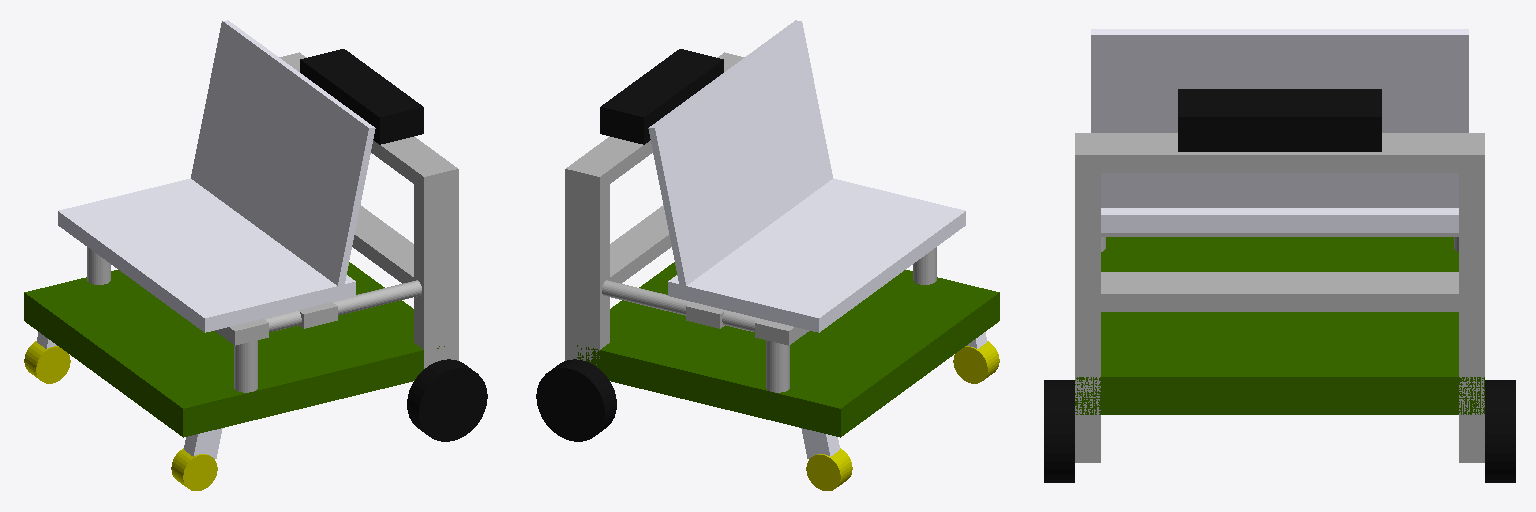
The robot description file, URDF, robot "multipleshapes":
<?xml version="1.0"?>
<robot name="multipleshapes">

	 <link name="rect_base">
	    <visual>
	      <geometry>
		<box size="0.4 .4 .04"/>
	      </geometry>
		<material name="Greenish">
     			<color rgba="0.25 0.45 0 1"/>
  	       </material>
	    </visual>
	 </link>

	<link name="dell_base">
	    <visual>
	      <geometry>
		<box size="0.22 .37 .02"/>
	      </geometry>
		<material name="Silver">
     			<color rgba="0.95 0.95 1 0.95"/>
  	       </material>
	    </visual>
	 </link>

	<link name="dell_screen">
	    <visual>
	      <geometry>
		<box size="0.22 .37 .01"/>
	      </geometry>
	      <origin rpy="0 1.7854 0" xyz="0 0 0"/>
		<material name="Silver">
     			<color rgba="0.95 0.95 1 0.95"/>
  	       </material>
	    </visual>
	 </link>

	 <link name="bar_left1">
	    <visual>
	      <geometry>
		<box size="0.05 .025 .33"/>
	      </geometry>
		<material name="Gray">
     			<color rgba="0.75 0.75 0.75 1"/>
  	       </material>
	    </visual>
	  </link>

	<link name="bar_right1">
	    <visual>
	      <geometry>
		<box size="0.05 .025 .33"/>
	      </geometry>
		<material name="Gray">
     			<color rgba="0.75 0.75 0.75 1"/>
  	       </material>
	    </visual>
	 </link>

	<link name="wheel_left">
	    <visual>
	      <geometry>
		<cylinder length="0.03" radius="0.05"/>
	      </geometry>
	      <origin rpy="0 1.57075 1.57075" xyz="0 0 0"/>
		<material name="Black">
     			<color rgba="0.1 0.1 0.1 1"/>
  	       </material>
	    </visual>
	 </link>
	<link name="wheel_right">
	    <visual>
	      <geometry>
		<cylinder length="0.03" radius="0.05"/>
	      </geometry>
	      <origin rpy="0 1.57075 1.57075" xyz="0 0 0"/>
		<material name="Black">
     			<color rgba="0.1 0.1 0.1 1"/>
  	       </material>
	    </visual>
	 </link>

	<link name="shaft_left">
	    <visual>
	      <geometry>
		<box size="0.07 .025 .035"/>
	      </geometry>
	      <origin rpy="0 1.7854 0" xyz="0 0 0"/>
		<material name="Silver">
     			<color rgba="0.95 0.95 1 0.95"/>
  	       </material>
	    </visual>
	 </link>


	<link name="shaft_right">
  	    <visual>
	      <geometry>
		<box size="0.07 .025 .035"/>
	      </geometry>
	      <origin rpy="0 1.7854 0" xyz="0 0 0"/>
		<material name="Silver">
     			<color rgba="0.95 0.95 1 0.95"/>
  	       </material>
	    </visual>
	 </link>


	<link name="wheel_left2">
	    <visual>
	      <geometry>
		<cylinder length="0.03" radius="0.025"/>
	      </geometry>
	      <origin rpy="0 1.57075 1.57075" xyz="0 0 0"/>
		<material name="Yellow">
     			<color rgba="0.8 0.8 0 1"/>
  	       </material>
	    </visual>
	 </link>

	<link name="wheel_right2">
	    <visual>
	      <geometry>
		<cylinder length="0.03" radius="0.025"/>
	      </geometry>
	      <origin rpy="0 1.57075 1.57075" xyz="0 0 0"/>
		<material name="Yellow">
     			<color rgba="0.8 0.8 0 1"/>
  	       </material>
	    </visual>
	 </link>

	<link name="bar_ver1">
	    <visual>
	      <geometry>
		<cylinder length="0.3" radius="0.01"/>
	      </geometry>
	      <origin rpy="0 1.57075 0" xyz="0 0 0"/>
		<material name="Gray">
     			<color rgba="0.75 0.75 0.75 1"/>
  	       </material>
	    </visual>
	 </link>

	<link name="bar_ver2">
	    <visual>
	      <geometry>
		<cylinder length="0.3" radius="0.01"/>
	      </geometry>
	      <origin rpy="0 1.57075 0" xyz="0 0 0"/>
		<material name="Gray">
     			<color rgba="0.75 0.75 0.75 1"/>
  	       </material>
	    </visual>
	 </link>

	<link name="bar_hor1">
	    <visual>
	      <geometry>
		<box size="0.05 .4 .02"/>
	      </geometry>
		<material name="Gray">
     			<color rgba="0.75 0.75 0.75 1"/>
  	       </material>
	    </visual>
	 </link>

	<link name="bar_hor2">
	    <visual>
	      <geometry>
		<box size="0.05 .4 .02"/>
	      </geometry>
		<material name="Gray">
     			<color rgba="0.75 0.75 0.75 1"/>
  	       </material>
	    </visual>
	 </link>


	<link name="bar_hor3">
	    <visual>
	      <geometry>
		<box size="0.05 .4 .02"/>
	      </geometry>
		<material name="Gray">
			<color rgba="0.75 0.75 0.75 1"/>
	       </material>
	    </visual>
	 </link>

	<link name="bar_hor4">
	    <visual>
	      <geometry>
		<box size="0.05 .4 .02"/>
	      </geometry>
		<material name="Gray">
			<color rgba="0.75 0.75 0.75 1"/>
	       </material>
	    </visual>
	 </link>

	<link name="bar_right2">
	    <visual>
	      <geometry>
		<cylinder length="0.12" radius="0.015"/>
	      </geometry>
		<material name="Gray">
     			<color rgba="0.75 0.75 0.75 1"/>
  	       </material>
	    </visual>
	 </link>

	<link name="bar_left2">
	    <visual>
	      <geometry>
		<cylinder length="0.12" radius="0.015"/>
	      </geometry>
		<material name="Gray">
     			<color rgba="0.75 0.75 0.75 1"/>
  	       </material>
	    </visual>
	 </link>

	<link name="kinect_link">
	  <visual>
	    <geometry>
	      <box size="0.064 0.2 0.0381" />
	    </geometry>
	    <material name="Black" />
	  </visual>
	  <inertial>
	      <mass value="0.0001" />
	      <origin xyz="0 0 0" />
	      <inertia ixx="0.0001" ixy="0.0" ixz="0.0"
		       iyy="0.0001" iyz="0.0" 
		       izz="0.0001" />
	  </inertial>
	</link>

	 <joint name="base_to_dell" type="fixed">
	    <parent link="rect_base"/>
	    <child link="bar_left1"/>
	    <origin xyz="0.175 0.1875 .0925"/>
	 </joint>

	 <joint name="base_to_bar_left1" type="fixed">
	    <parent link="rect_base"/>
	    <child link="dell_base"/>
	    <origin xyz="-0.05 0 .12"/>
	 </joint>

	 <joint name="base_to_bar_right1" type="fixed">
	    <parent link="rect_base"/>
	    <child link="bar_right1"/>
	    <origin xyz="0.175 -0.1875 .0925"/>
	 </joint>

	<joint name="base_to_bar_left2" type="fixed">
	    <parent link="rect_base"/>
	    <child link="bar_right2"/>
	    <origin xyz="-0.1 0.185 0.05"/>
	 </joint>

	<joint name="base_to_bar_right2" type="fixed">
	    <parent link="rect_base"/>
	    <child link="bar_left2"/>
	    <origin xyz="-0.1 -0.185 0.05"/>
	 </joint>

	 <joint name="base_to_bar_ver1" type="fixed">
	    <parent link="rect_base"/>
	    <child link="bar_ver1"/>
	    <origin xyz="0.025 0.185 .1"/>
	 </joint>

	<joint name="base_to_bar_ver2" type="fixed">
	    <parent link="rect_base"/>
	    <child link="bar_ver2"/>
	    <origin xyz="0.025 -0.185 .1"/>
	 </joint>

	 <joint name="base_to_bar_hor1" type="fixed">
	    <parent link="rect_base"/>
	    <child link="bar_hor1"/>
	    <origin xyz="0.175 0 .25"/>
	 </joint>

	<joint name="base_to_bar_hor2" type="fixed">
	    <parent link="rect_base"/>
	    <child link="bar_hor2"/>
	    <origin xyz="0.175 0 .1"/>
	 </joint>

	<joint name="base_to_bar_hor3" type="fixed">
	    <parent link="rect_base"/>
	    <child link="bar_hor3"/>
	    <origin xyz="0.0 0 .1"/>
	 </joint>

	<joint name="base_to_bar_hor4" type="fixed">
	    <parent link="rect_base"/>
	    <child link="bar_hor4"/>
	    <origin xyz="-0.1 0 .1"/>
	 </joint>


	<joint name="base_to_kinect" type="fixed">
	    <parent link="rect_base"/>
	    <child link="kinect_link"/>
	    <origin xyz="0.175 0 0.285"/>
	 </joint>

	 <joint name="base_to_wheel_left" type="fixed">
	    <parent link="rect_base"/>
	    <child link="wheel_left"/>
	    <origin xyz="0.175 0.215 -0.05"/>
	 </joint>

	<joint name="base_to_wheel_right" type="fixed">
	    <parent link="rect_base"/>
	    <child link="wheel_right"/>
	    <origin xyz="0.175 -0.215 -0.05"/>
	 </joint>

         <joint name="base_to_wheel_left1" type="fixed">
	    <parent link="rect_base"/>
	    <child link="wheel_left2"/>
	    <origin xyz="-0.175 0.185 -0.075"/>
	 </joint>

	<joint name="base_to_wheel_right1" type="fixed">
	    <parent link="rect_base"/>
	    <child link="wheel_right2"/>
	    <origin xyz="-0.175 -0.185 -0.075"/>
	 </joint>

         <joint name="base_to_shaft_left1" type="fixed">
	    <parent link="rect_base"/>
	    <child link="shaft_left"/>
	    <origin xyz="-0.16 0.185 -0.025"/>
	 </joint>

	<joint name="base_to_shaft_right1" type="fixed">
	    <parent link="rect_base"/>
	    <child link="shaft_right"/>
	    <origin xyz="-0.16 -0.185 -0.025"/>
	 </joint>

	<joint name="dell_base_to_screen" type="fixed">
	    <parent link="dell_base"/>
	    <child link="dell_screen"/>
	    <origin xyz="0.11 0 0.11"/>
	 </joint>


</robot>

--- Facts derived from the render (not from the file) ---
3 views of the same robot in one strip: view 1: azimuth 30°, elevation 25°; view 2: azimuth 150°, elevation 25°; view 3: azimuth 270°, elevation 25° (orthographic).
Model multipleshapes with 20 links and 19 joints (19 fixed), rooted at rect_base, posed every joint at zero.
Visible links, largest first — view 1: rect_base, dell_screen, dell_base, bar_right1, kinect_link, wheel_right, bar_hor2, bar_hor1, bar_ver2, wheel_right2, wheel_left2, bar_left2 (+4 smaller); view 2: rect_base, dell_screen, dell_base, bar_left1, kinect_link, wheel_left, bar_hor2, bar_hor1, bar_ver1, wheel_left2, wheel_right2, bar_right2 (+4 smaller); view 3: rect_base, dell_screen, bar_hor2, kinect_link, bar_hor1, dell_base, bar_right1, bar_left1, wheel_left, wheel_right, bar_hor3.
Boxes of the visible links, left/top/right/bottom form: rect_base: left=24, top=262, right=444, bottom=437; dell_screen: left=191, top=20, right=375, bottom=288; dell_base: left=58, top=178, right=355, bottom=332; bar_right1: left=414, top=171, right=458, bottom=368; kinect_link: left=300, top=49, right=423, bottom=144; wheel_right: left=407, top=359, right=487, bottom=441; bar_hor2: left=352, top=205, right=422, bottom=296; bar_hor1: left=279, top=52, right=458, bottom=189; bar_ver2: left=225, top=280, right=421, bottom=336; wheel_right2: left=171, top=448, right=217, bottom=490; wheel_left2: left=24, top=341, right=70, bottom=383; bar_left2: left=234, top=320, right=257, bottom=392; rect_base: left=577, top=262, right=999, bottom=437; dell_screen: left=648, top=20, right=832, bottom=290; dell_base: left=668, top=178, right=965, bottom=332; bar_left1: left=565, top=171, right=609, bottom=364; kinect_link: left=600, top=49, right=723, bottom=144; wheel_left: left=536, top=359, right=616, bottom=441; bar_hor2: left=579, top=205, right=671, bottom=297; bar_hor1: left=565, top=52, right=744, bottom=189; bar_ver1: left=602, top=280, right=798, bottom=336; wheel_left2: left=806, top=448, right=852, bottom=490; wheel_right2: left=953, top=341, right=999, bottom=383; bar_right2: left=766, top=321, right=789, bottom=392; rect_base: left=1075, top=237, right=1484, bottom=414; dell_screen: left=1091, top=29, right=1468, bottom=207; bar_hor2: left=1075, top=272, right=1484, bottom=311; kinect_link: left=1178, top=89, right=1381, bottom=151; bar_hor1: left=1075, top=133, right=1484, bottom=172; dell_base: left=1101, top=208, right=1458, bottom=232; bar_right1: left=1075, top=157, right=1100, bottom=462; bar_left1: left=1459, top=157, right=1484, bottom=462; wheel_left: left=1485, top=380, right=1515, bottom=482; wheel_right: left=1044, top=380, right=1074, bottom=482; bar_hor3: left=1101, top=233, right=1458, bottom=236.
Size in the robot's own frame: 0.425 by 0.46 by 0.4385 metres.
Geometry: primitives only (box / cylinder / sphere), no mesh files.
